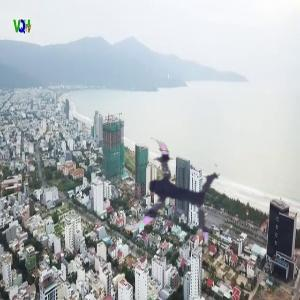drone: (113, 137, 224, 248)
